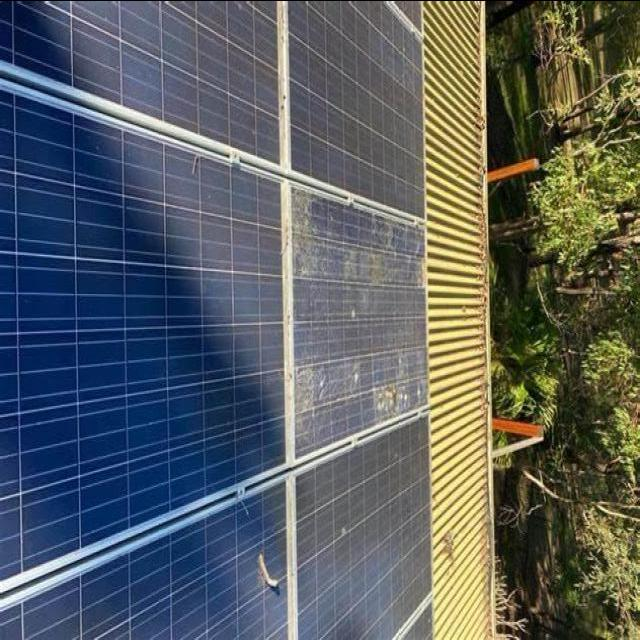soiled: (277, 177, 433, 496), (1, 483, 290, 640)
